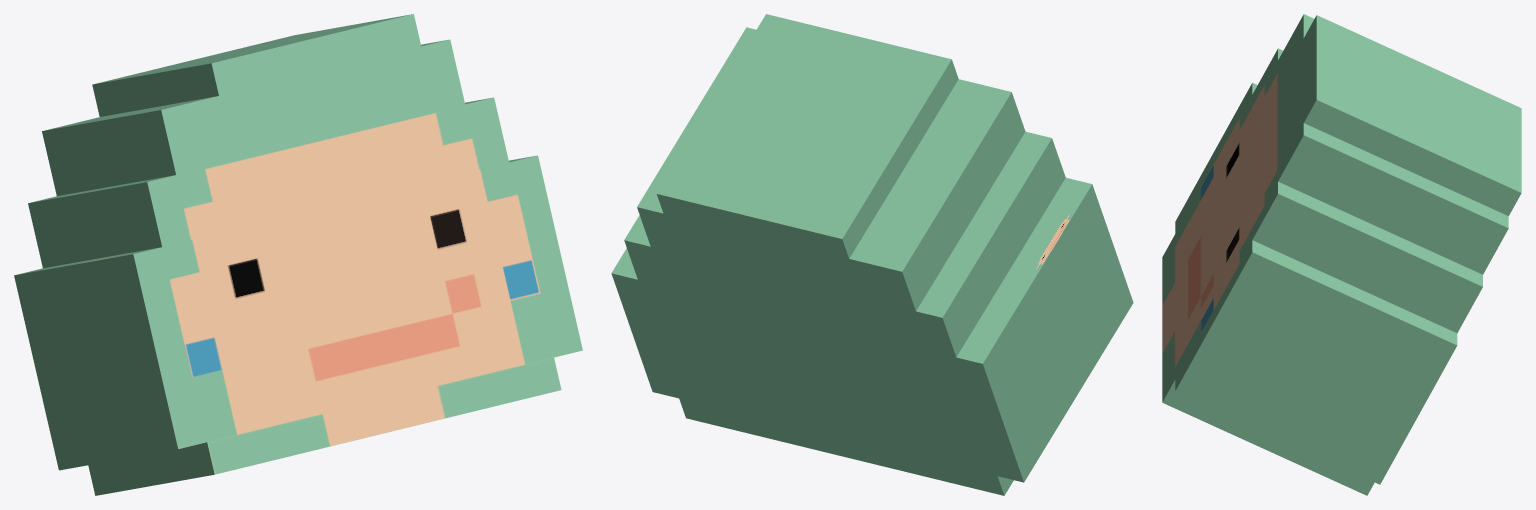
File: head_1.glb
The picture shows the model from 3 angles, left to right: view 1: azimuth 30°, elevation 25°; view 2: azimuth 150°, elevation 25°; view 3: azimuth 270°, elevation 25°; orthographic projection. The views are drawn at different scales.
Parts seen in each view (by area): view 1: head; view 2: head; view 3: head.
Part boxes in pixels (x1,y1,x2,y2): head: (14, 14, 582, 495); head: (611, 14, 1133, 495); head: (1162, 14, 1521, 495).
Bounding box in the file's own units: 0.0835 × 0.0854 × 0.0748.
Materials: 1 (1 with a texture image).
